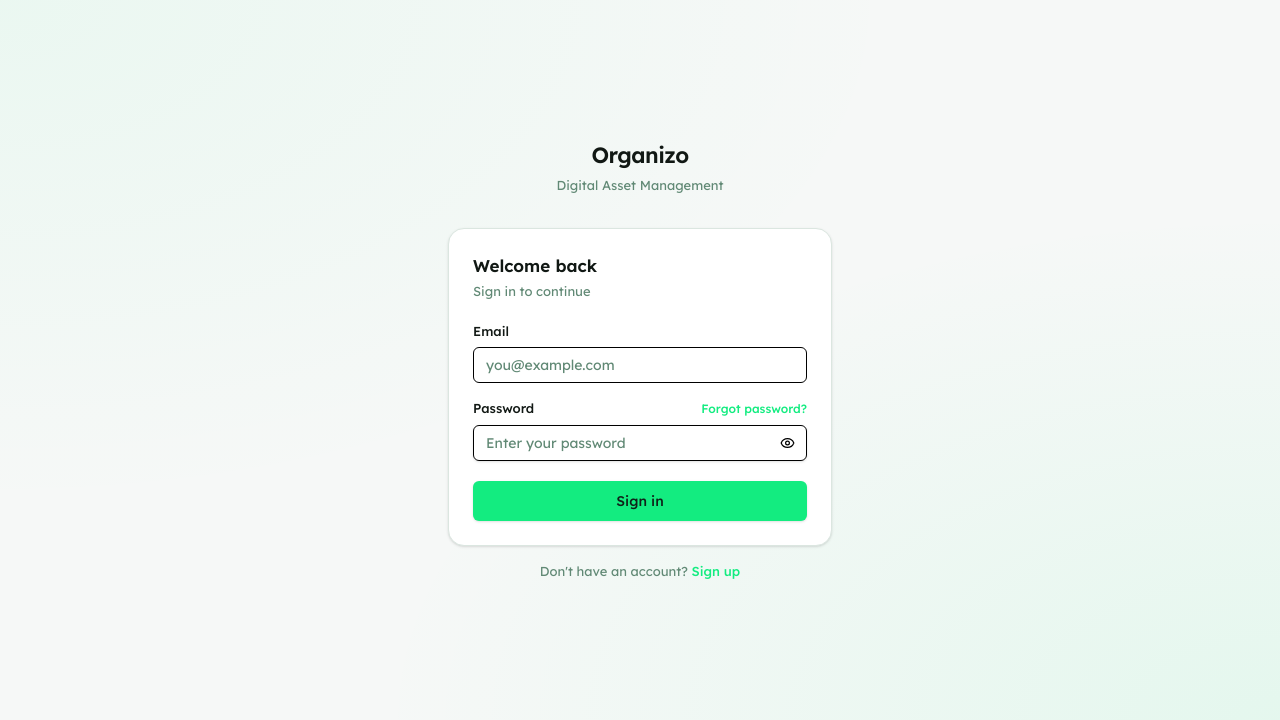
LoginPage › shows 'Invalid email or password' when the API returns 401
The image size is (1280, 720).
Type "wrong@example.com" into the field labelled "Email".
click(640, 365); type("wrong@example.com")  # box [473,347,807,383]
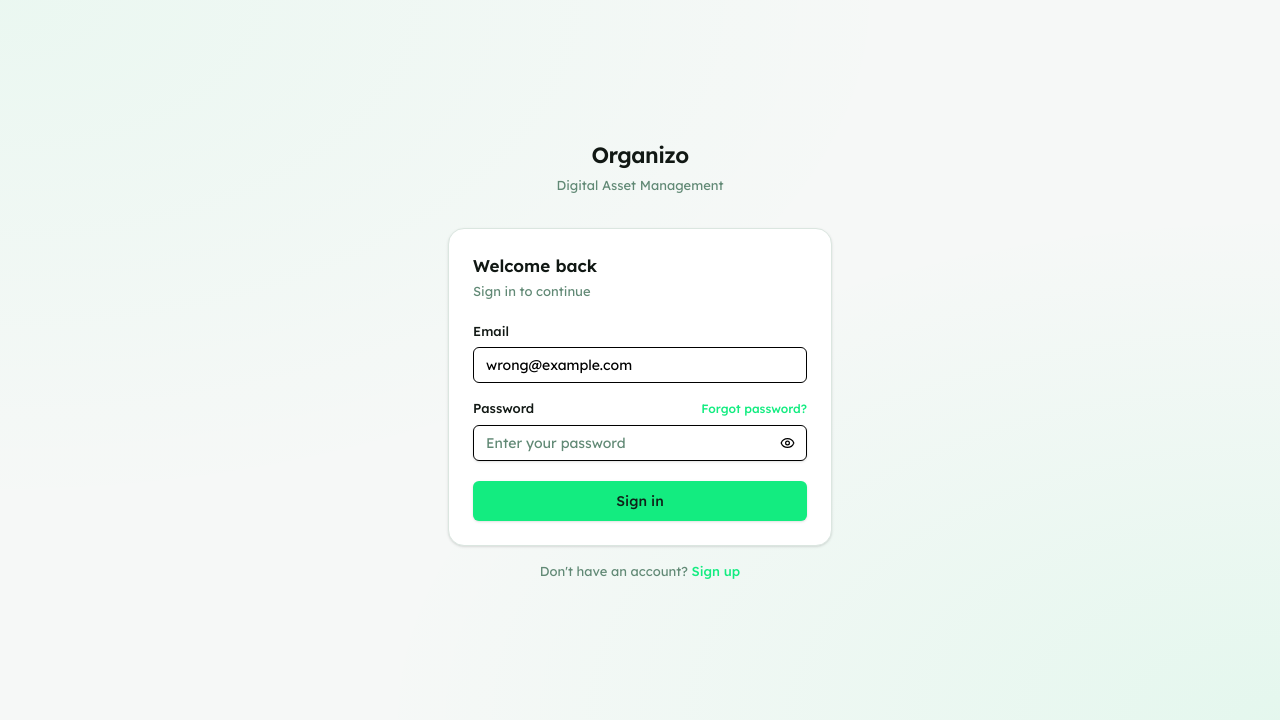
Type "WrongPass1" into the password field labelled "Password".
click(640, 442); type("WrongPass1")  # box [473,424,807,460]
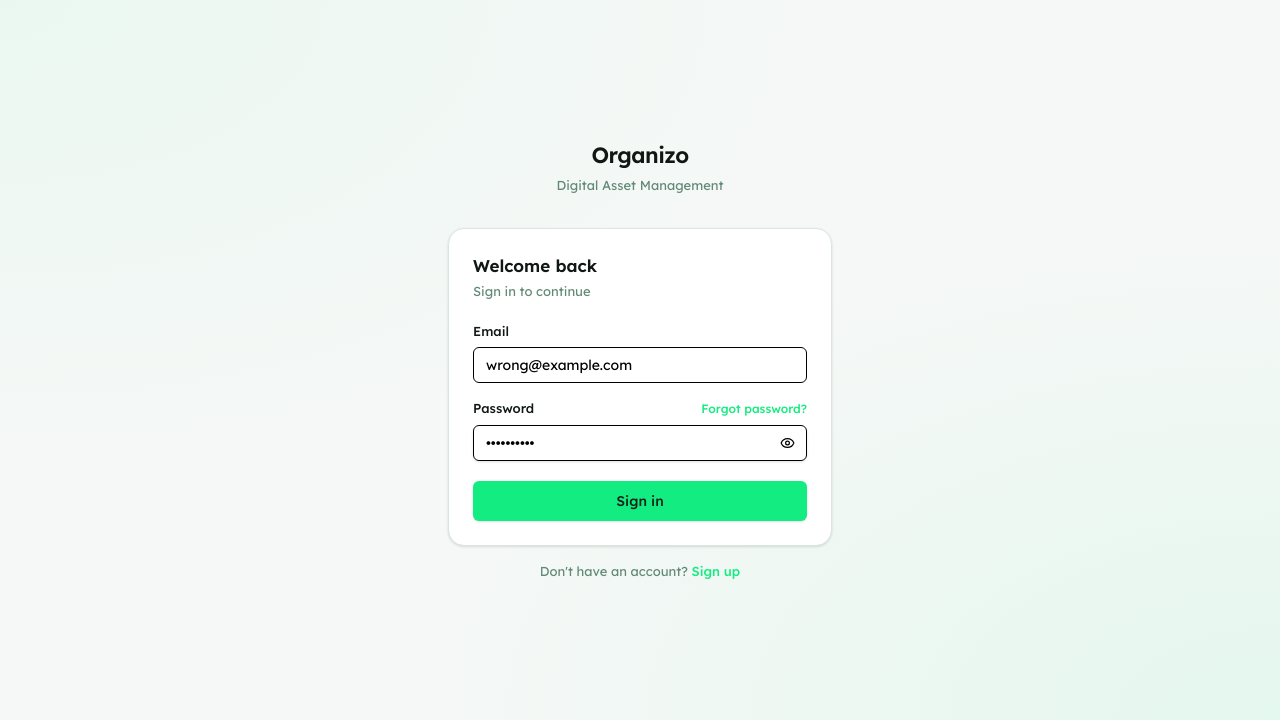
Click the button "Sign in".
click(640, 500)  # box [473,480,807,520]
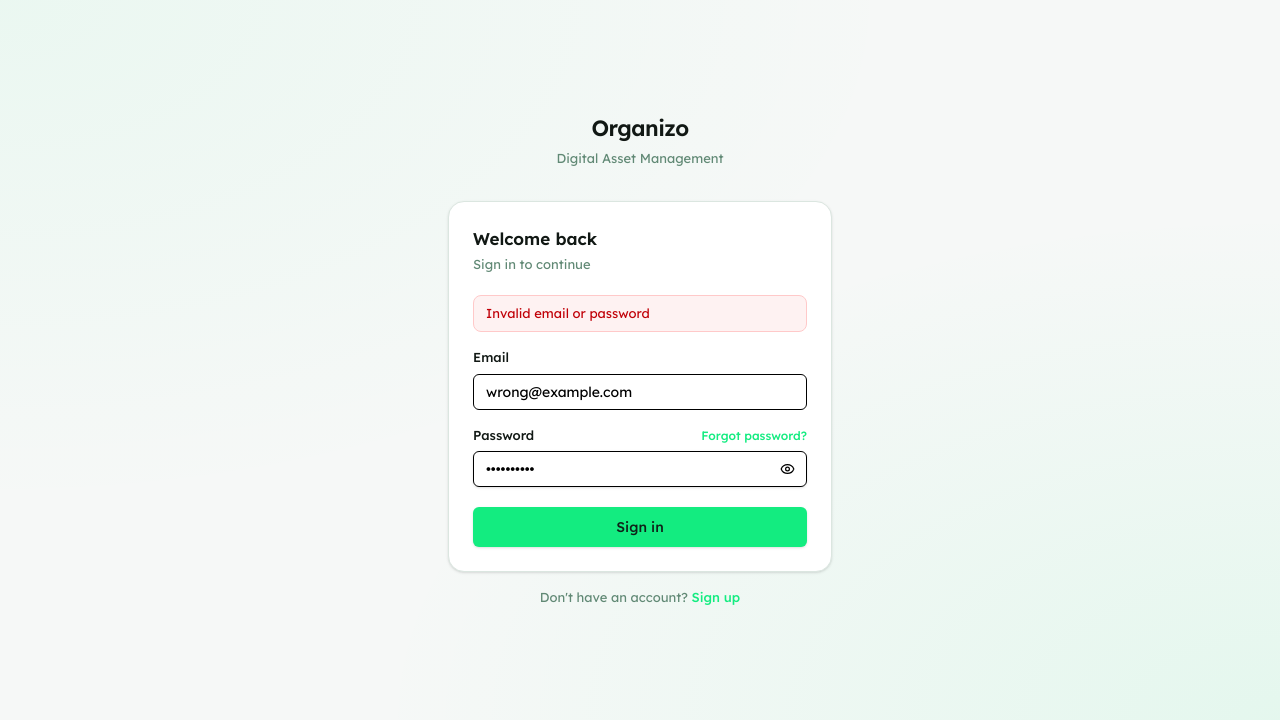
Now the text "Invalid email or password" is shown, box [473,295,807,332]
